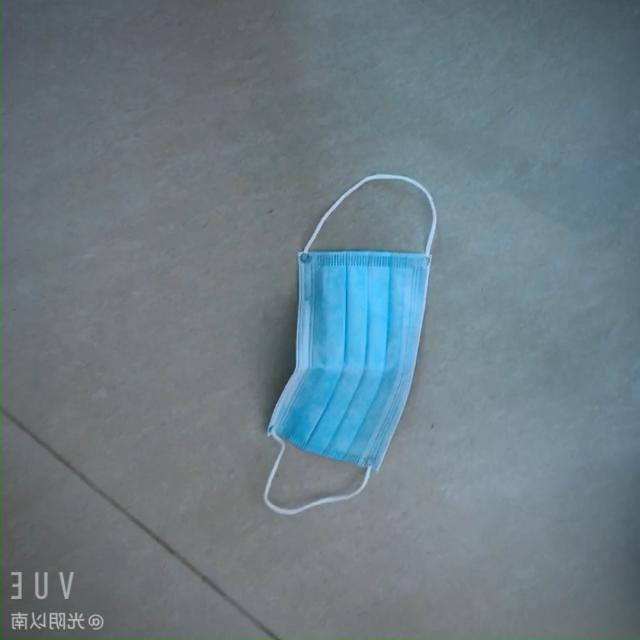face mask: (252, 171, 436, 502)
